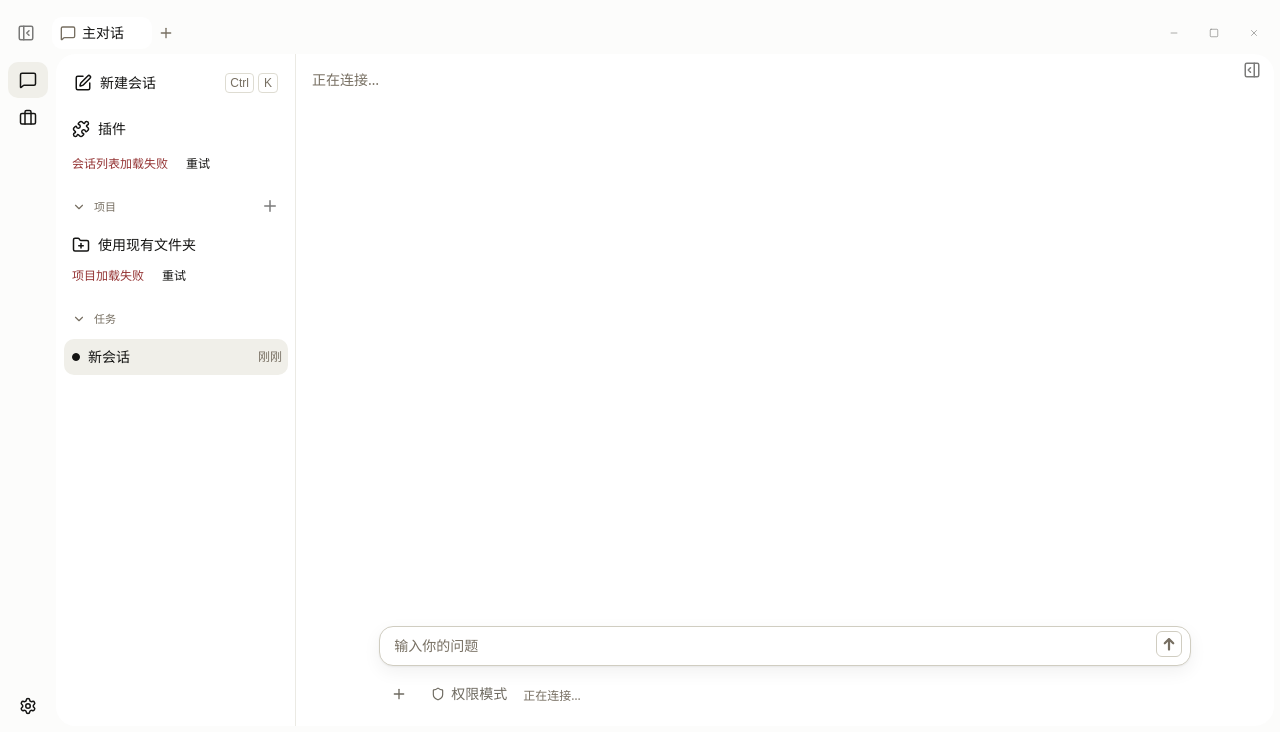
路由与页面骨架 › 侧栏「插件」入口：切到 /plugins，选中态联动；返回会话后取消选中
Click the button with test id "nav-plugins": (176, 129) [64,111,288,147]
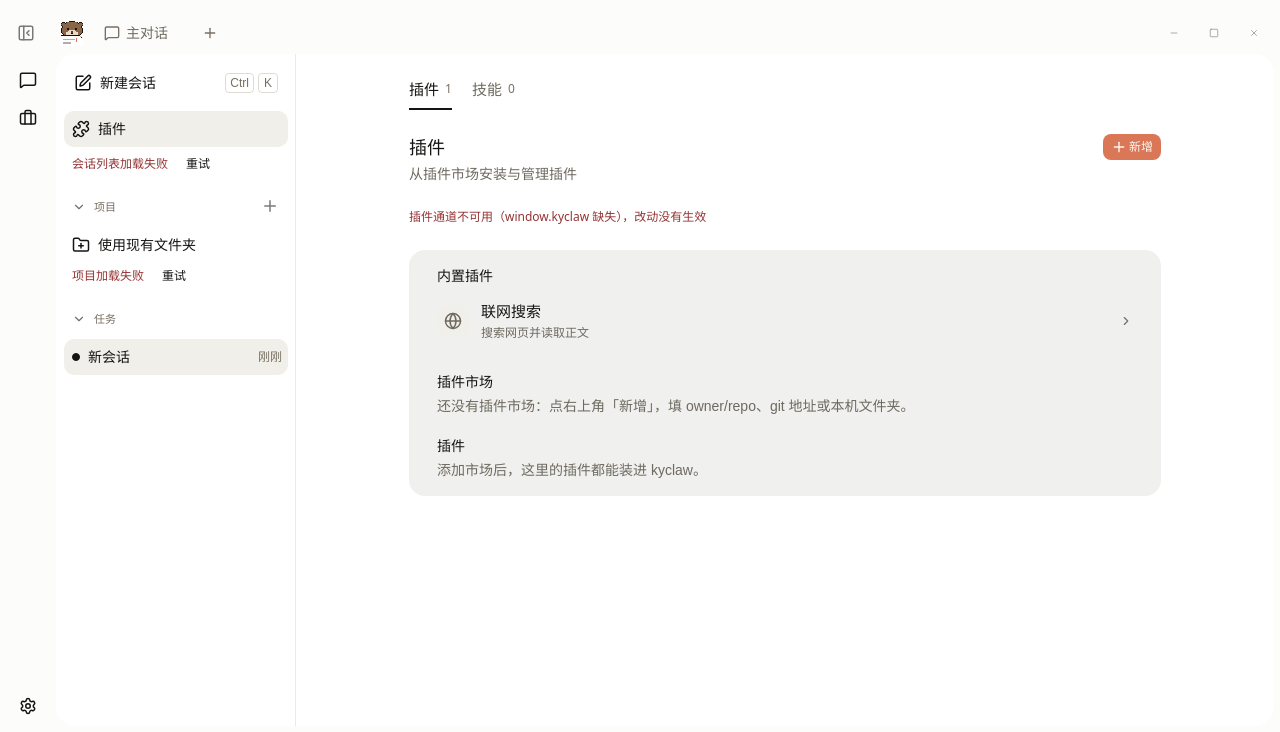
Result: the element with test id "plugins-page" is shown at [409,78,1161,496]
Click the button with test id "new-session": (176, 82) [64,62,288,103]
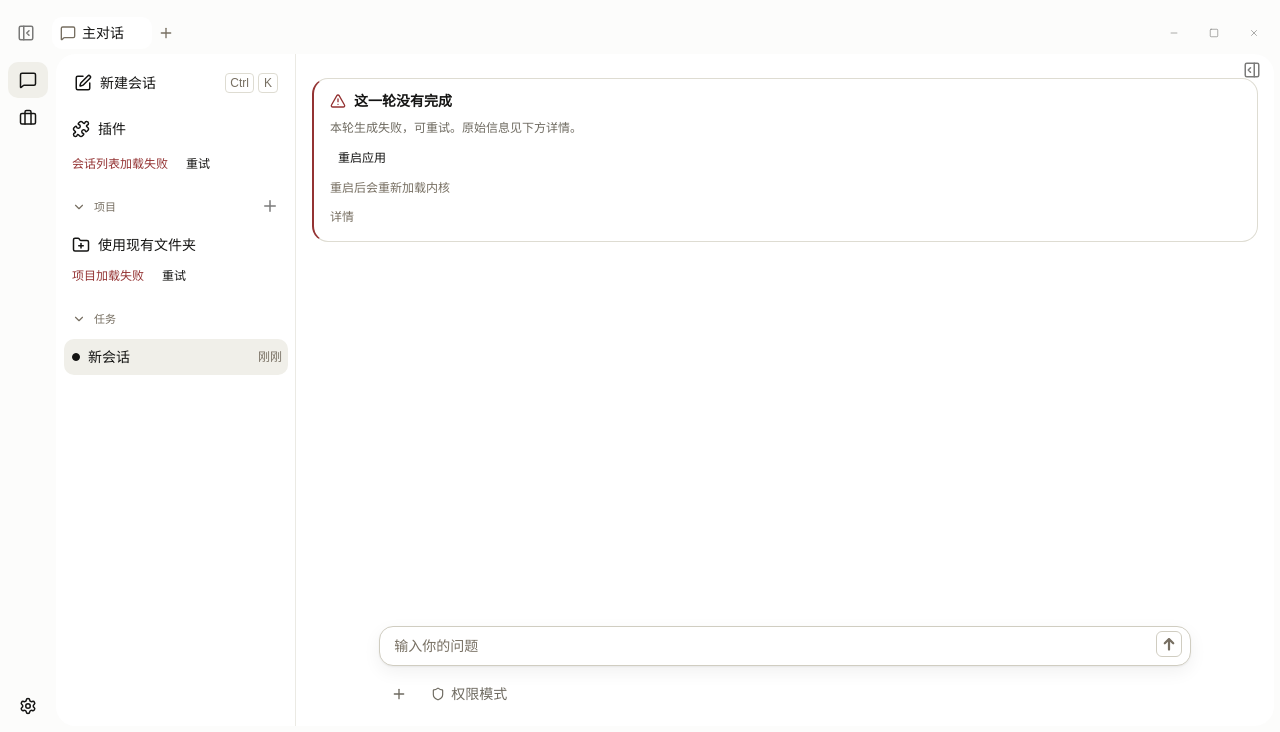
Result: the element with test id "chat-page" is shown
